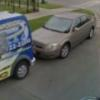cars: (32, 12, 96, 60)
